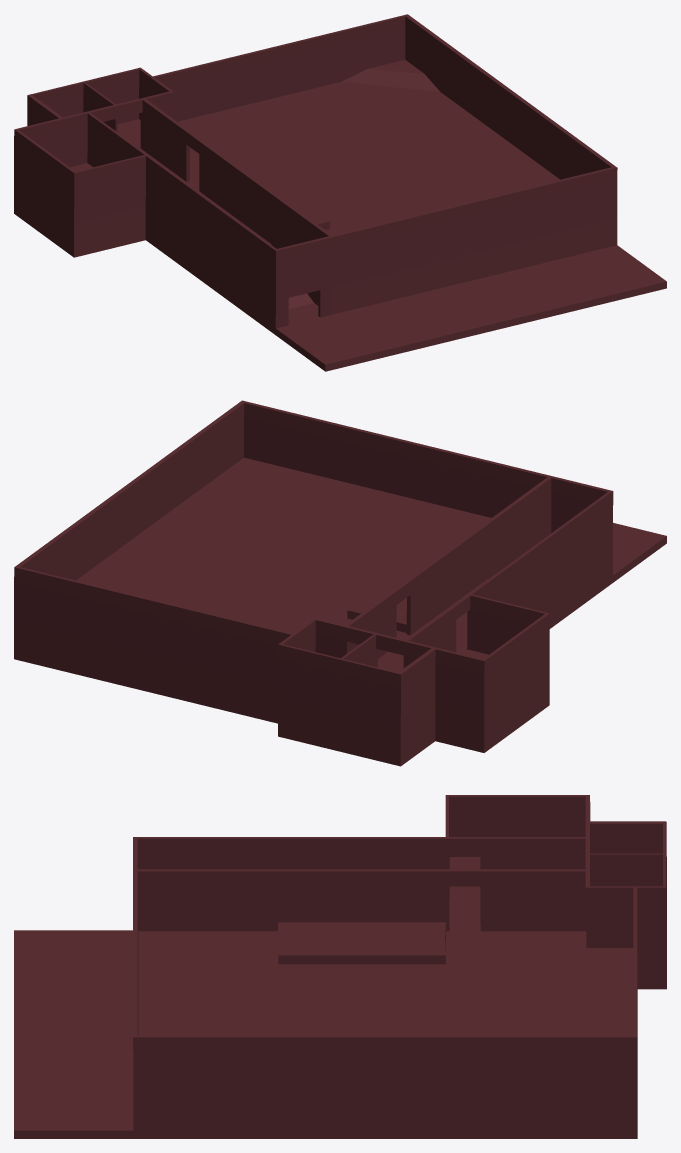
The model's file is hitbox_chão.glb.
3 views of the same model, one above another, from view 1: azimuth 30°, elevation 25°; view 2: azimuth 150°, elevation 25°; view 3: azimuth 270°, elevation 25° (orthographic). The views are drawn at different scales.
Parts seen in each view (by area): view 1: hitbox_chão; view 2: hitbox_chão; view 3: hitbox_chão.
Part boxes in pixels (<box>): hitbox_chão: <box>14,14,666,371</box>; hitbox_chão: <box>14,400,666,766</box>; hitbox_chão: <box>14,795,666,1138</box>.
Bounding box in the file's own units: 35.48 × 6.93 × 40.39.
